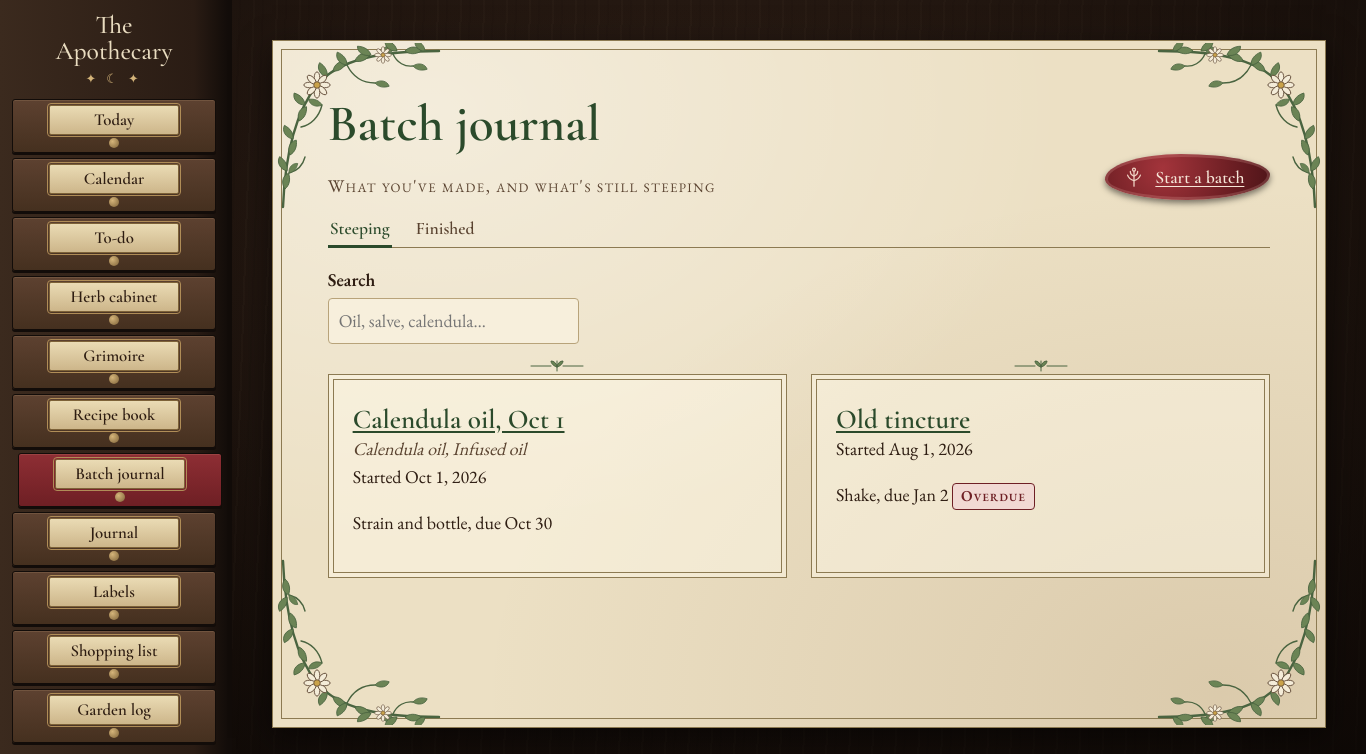
Test: switches to the finished tab and keeps it in the URL
Expected: the link "Old tincture" is shown, [836,403,970,436]
Click the link "Finished" at (445, 229), box [416,218,474,239]
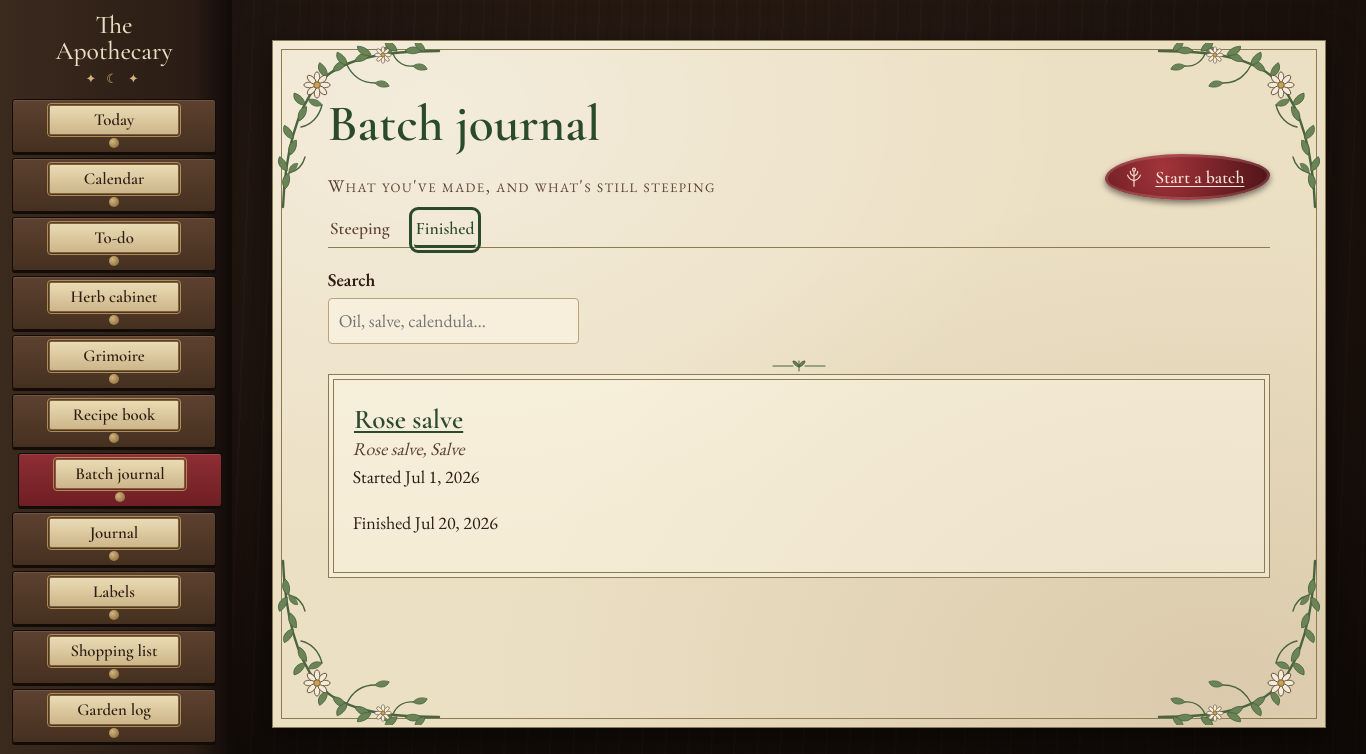
Result: the link "Rose salve" is shown at [354,403,463,436]
Result: the text "Finished Jul 20, 2026" is shown at [353,511,498,534]
